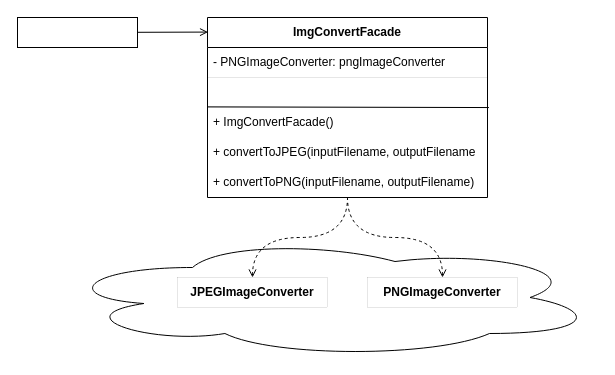
Some shapes in this 615 by 375 pixel diagram are drawn without their labels. The shapes that lost their labels are listed below. From the top down, each one's box as (x1, y1, x2, y2) in pixels, then its label:
(16, 16, 138, 48): ImgConverter
(207, 77, 487, 107): - JPEGImageConverter: jpegImageConverter
